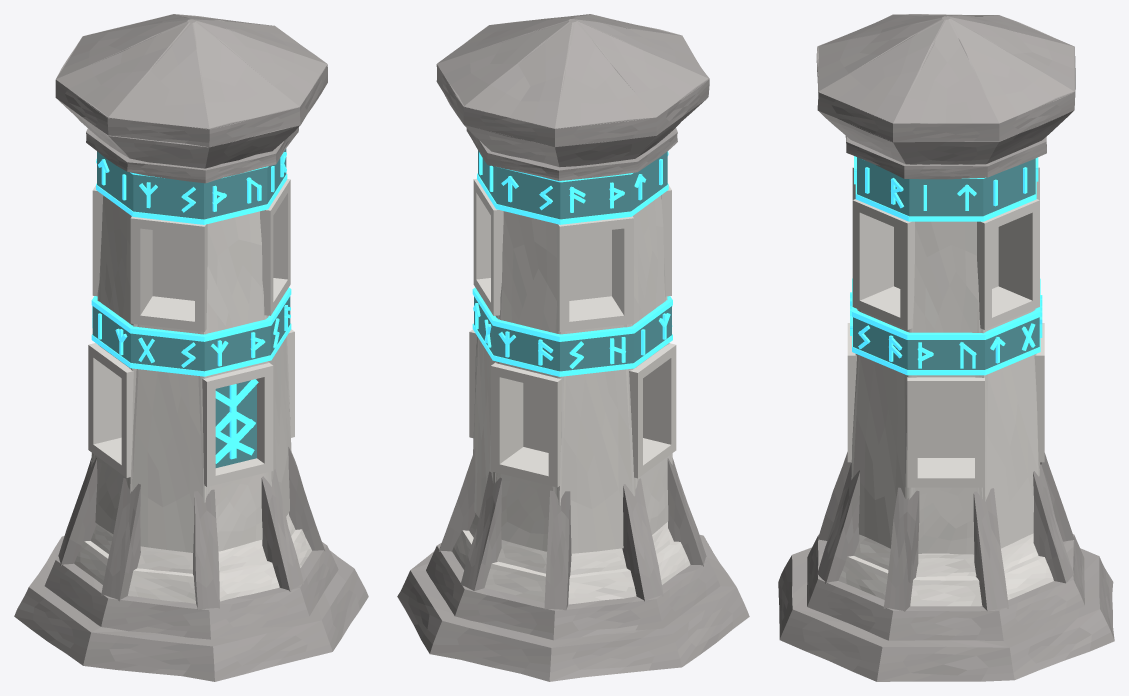
File: xai_great_beacon.fbx
3 renders of one model, left to right at view 1: azimuth 30°, elevation 25°; view 2: azimuth 150°, elevation 25°; view 3: azimuth 270°, elevation 25°, orthographic.
Visible parts, largest first — view 1: xai_great_beacon; view 2: xai_great_beacon; view 3: xai_great_beacon.
Part boxes in pixels (box(x1,y1,x2,y2)): xai_great_beacon: box(14, 14, 368, 681); xai_great_beacon: box(397, 14, 749, 681); xai_great_beacon: box(778, 14, 1114, 681).
Size of the model in its own units: 3.62 by 7.08 by 3.63.
